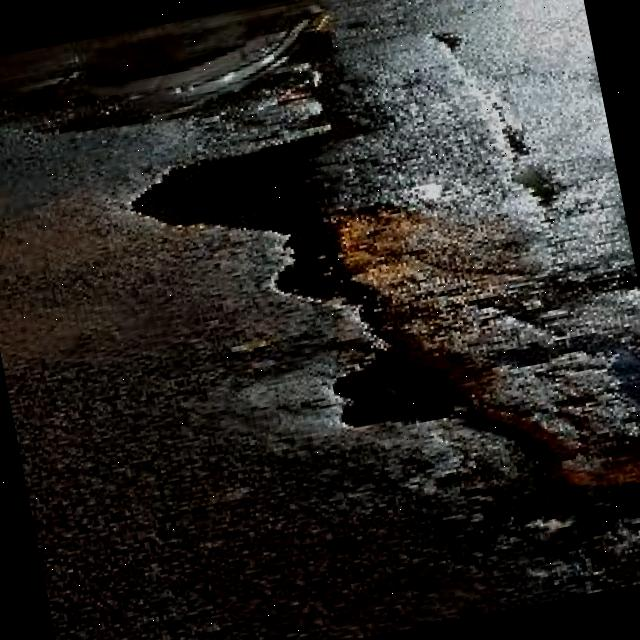stagnation: (135, 28, 459, 470)
